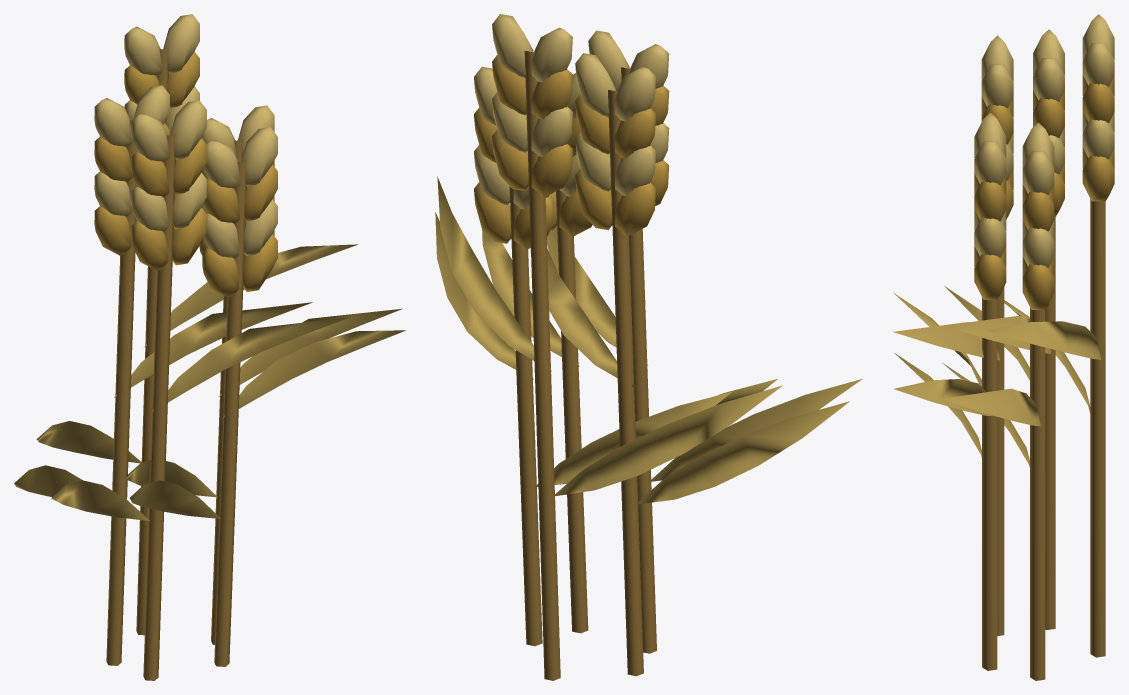
The model's file is trigo_3_lod.glb.
The picture shows the model from 3 angles, left to right: view 1: azimuth 30°, elevation 25°; view 2: azimuth 150°, elevation 25°; view 3: azimuth 270°, elevation 25°; orthographic projection. The views are drawn at different scales.
Visible parts, largest first — view 1: trigo_3_espigas_0; view 2: trigo_3_espigas_0; view 3: trigo_3_espigas_0.
Boxes of the visible parts, x1=… form: trigo_3_espigas_0: x1=14, y1=14, x2=405, y2=680; trigo_3_espigas_0: x1=435, y1=14, x2=862, y2=680; trigo_3_espigas_0: x1=893, y1=14, x2=1114, y2=680.
Bounding box in the file's own units: 0.5032 × 0.7515 × 0.2388.
